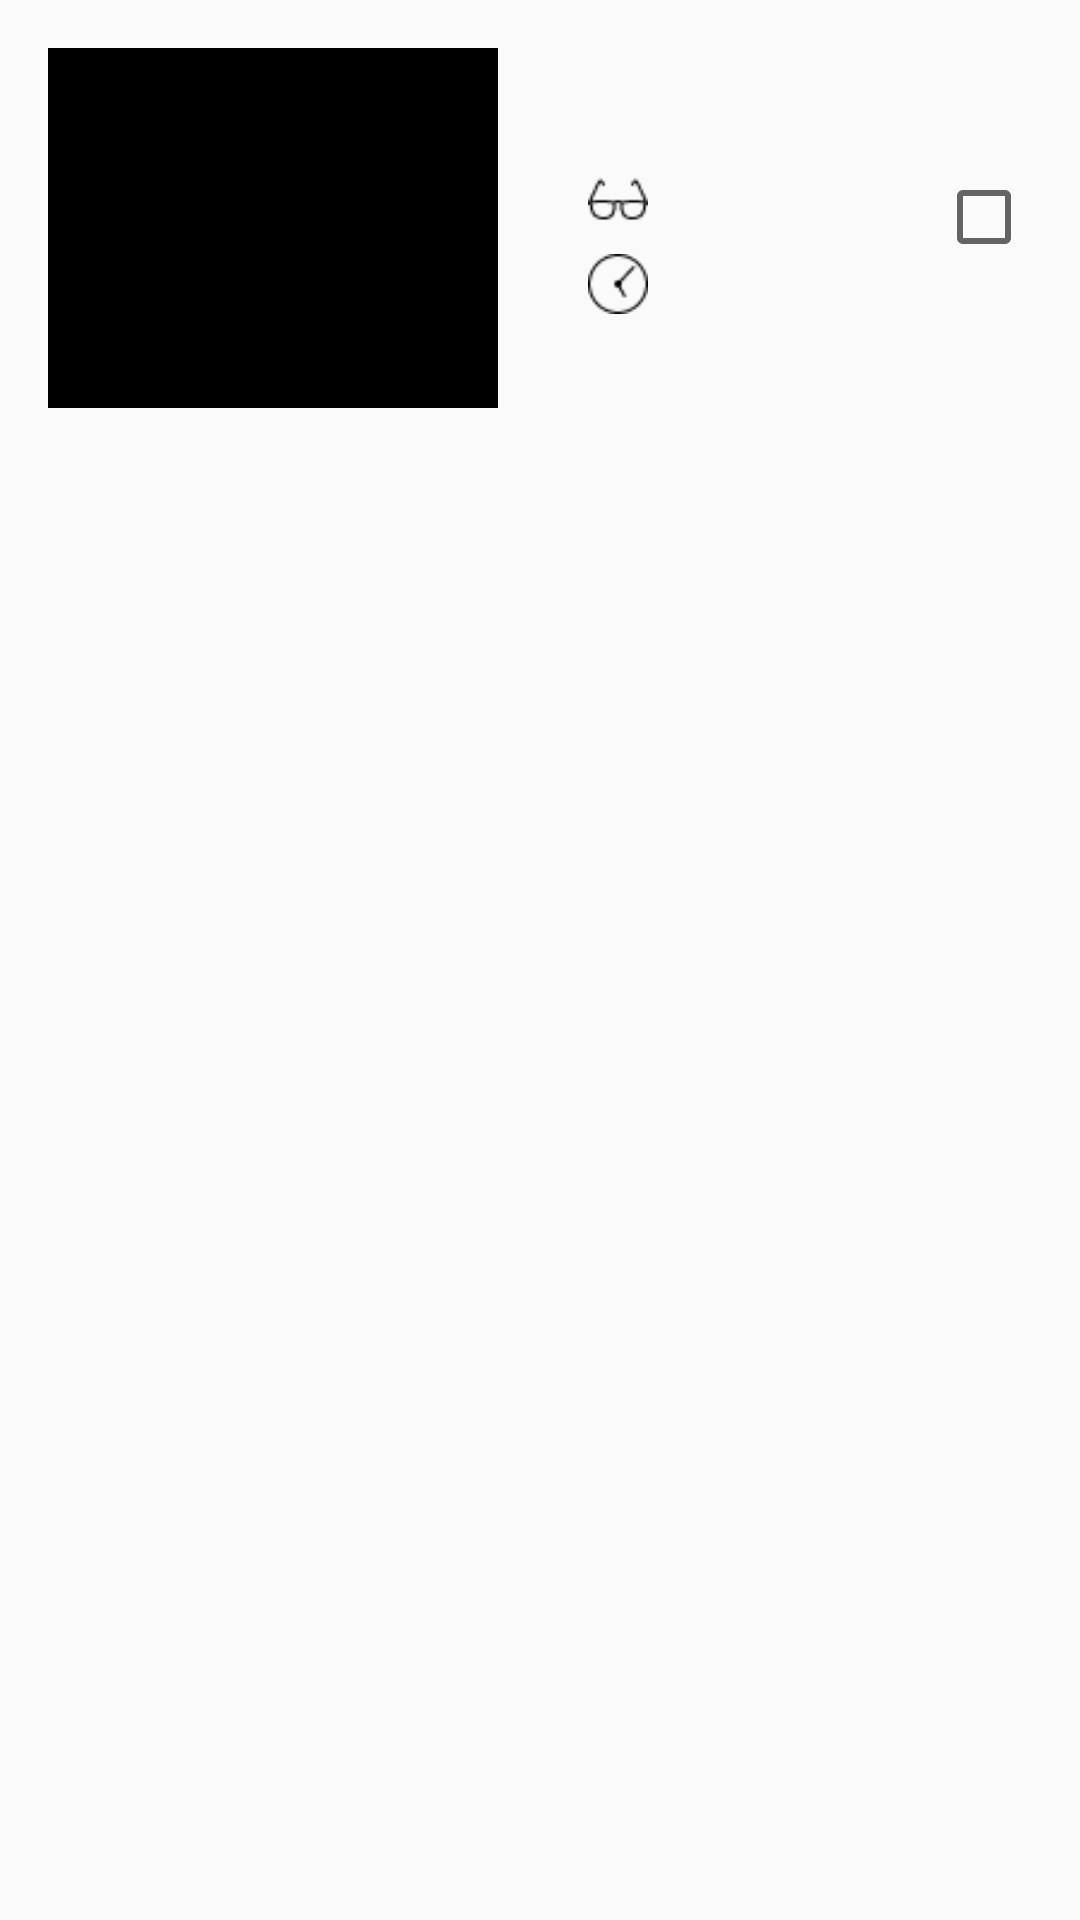

Icon bounding boxes for this 1080*1920 phone screenshot, format (x1,y1,x2,y2):
published at: (588,254,648,314)
views: (588,178,648,220)
